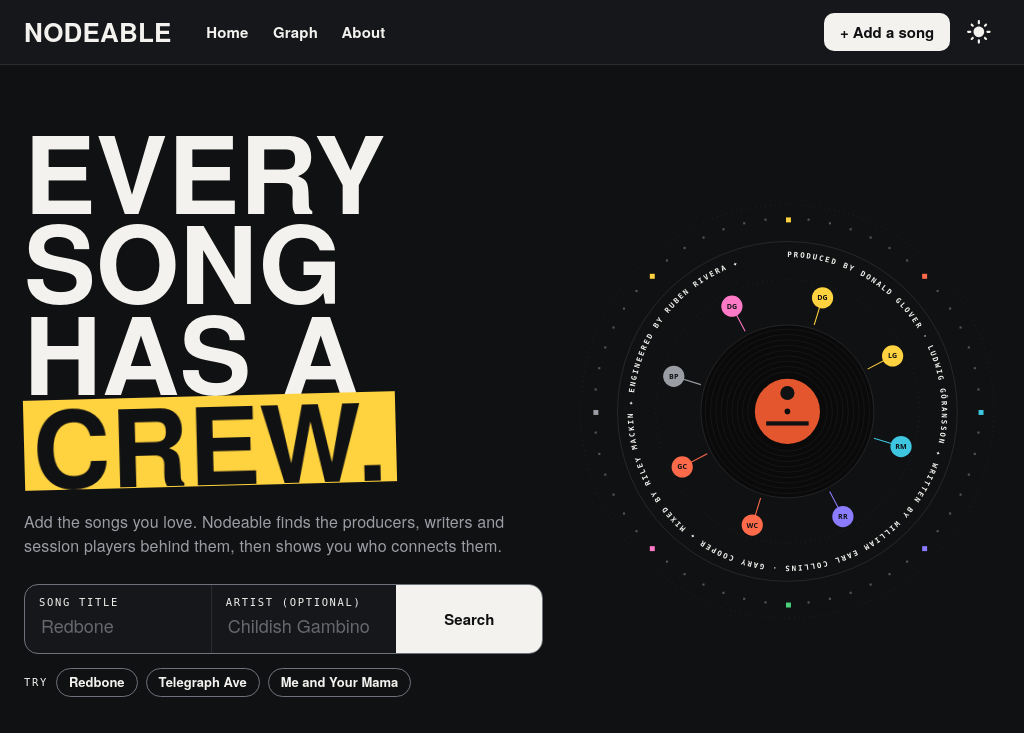
Test: app shell and routes › FR_ABOUT_01 loads the About page when its link is followed
The image size is (1024, 733).
Click the link "About" at point(363, 32), box top-left (341, 21), bottom-right (386, 43)
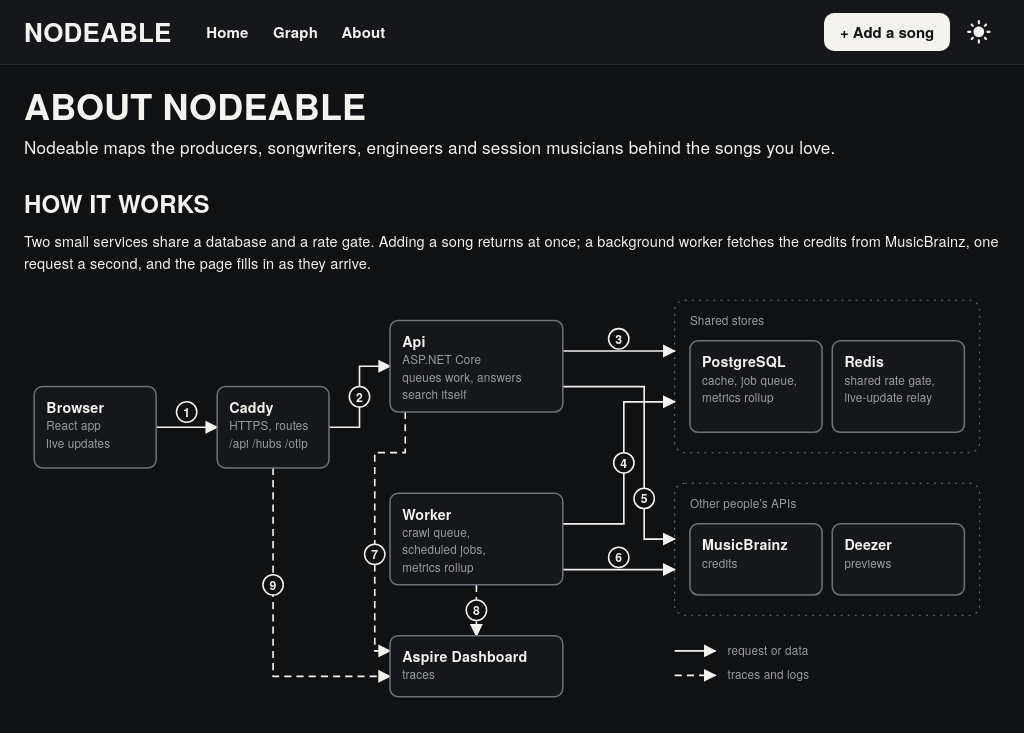
Now the heading "About Nodeable" is shown, box top-left (24, 79), bottom-right (366, 131)
